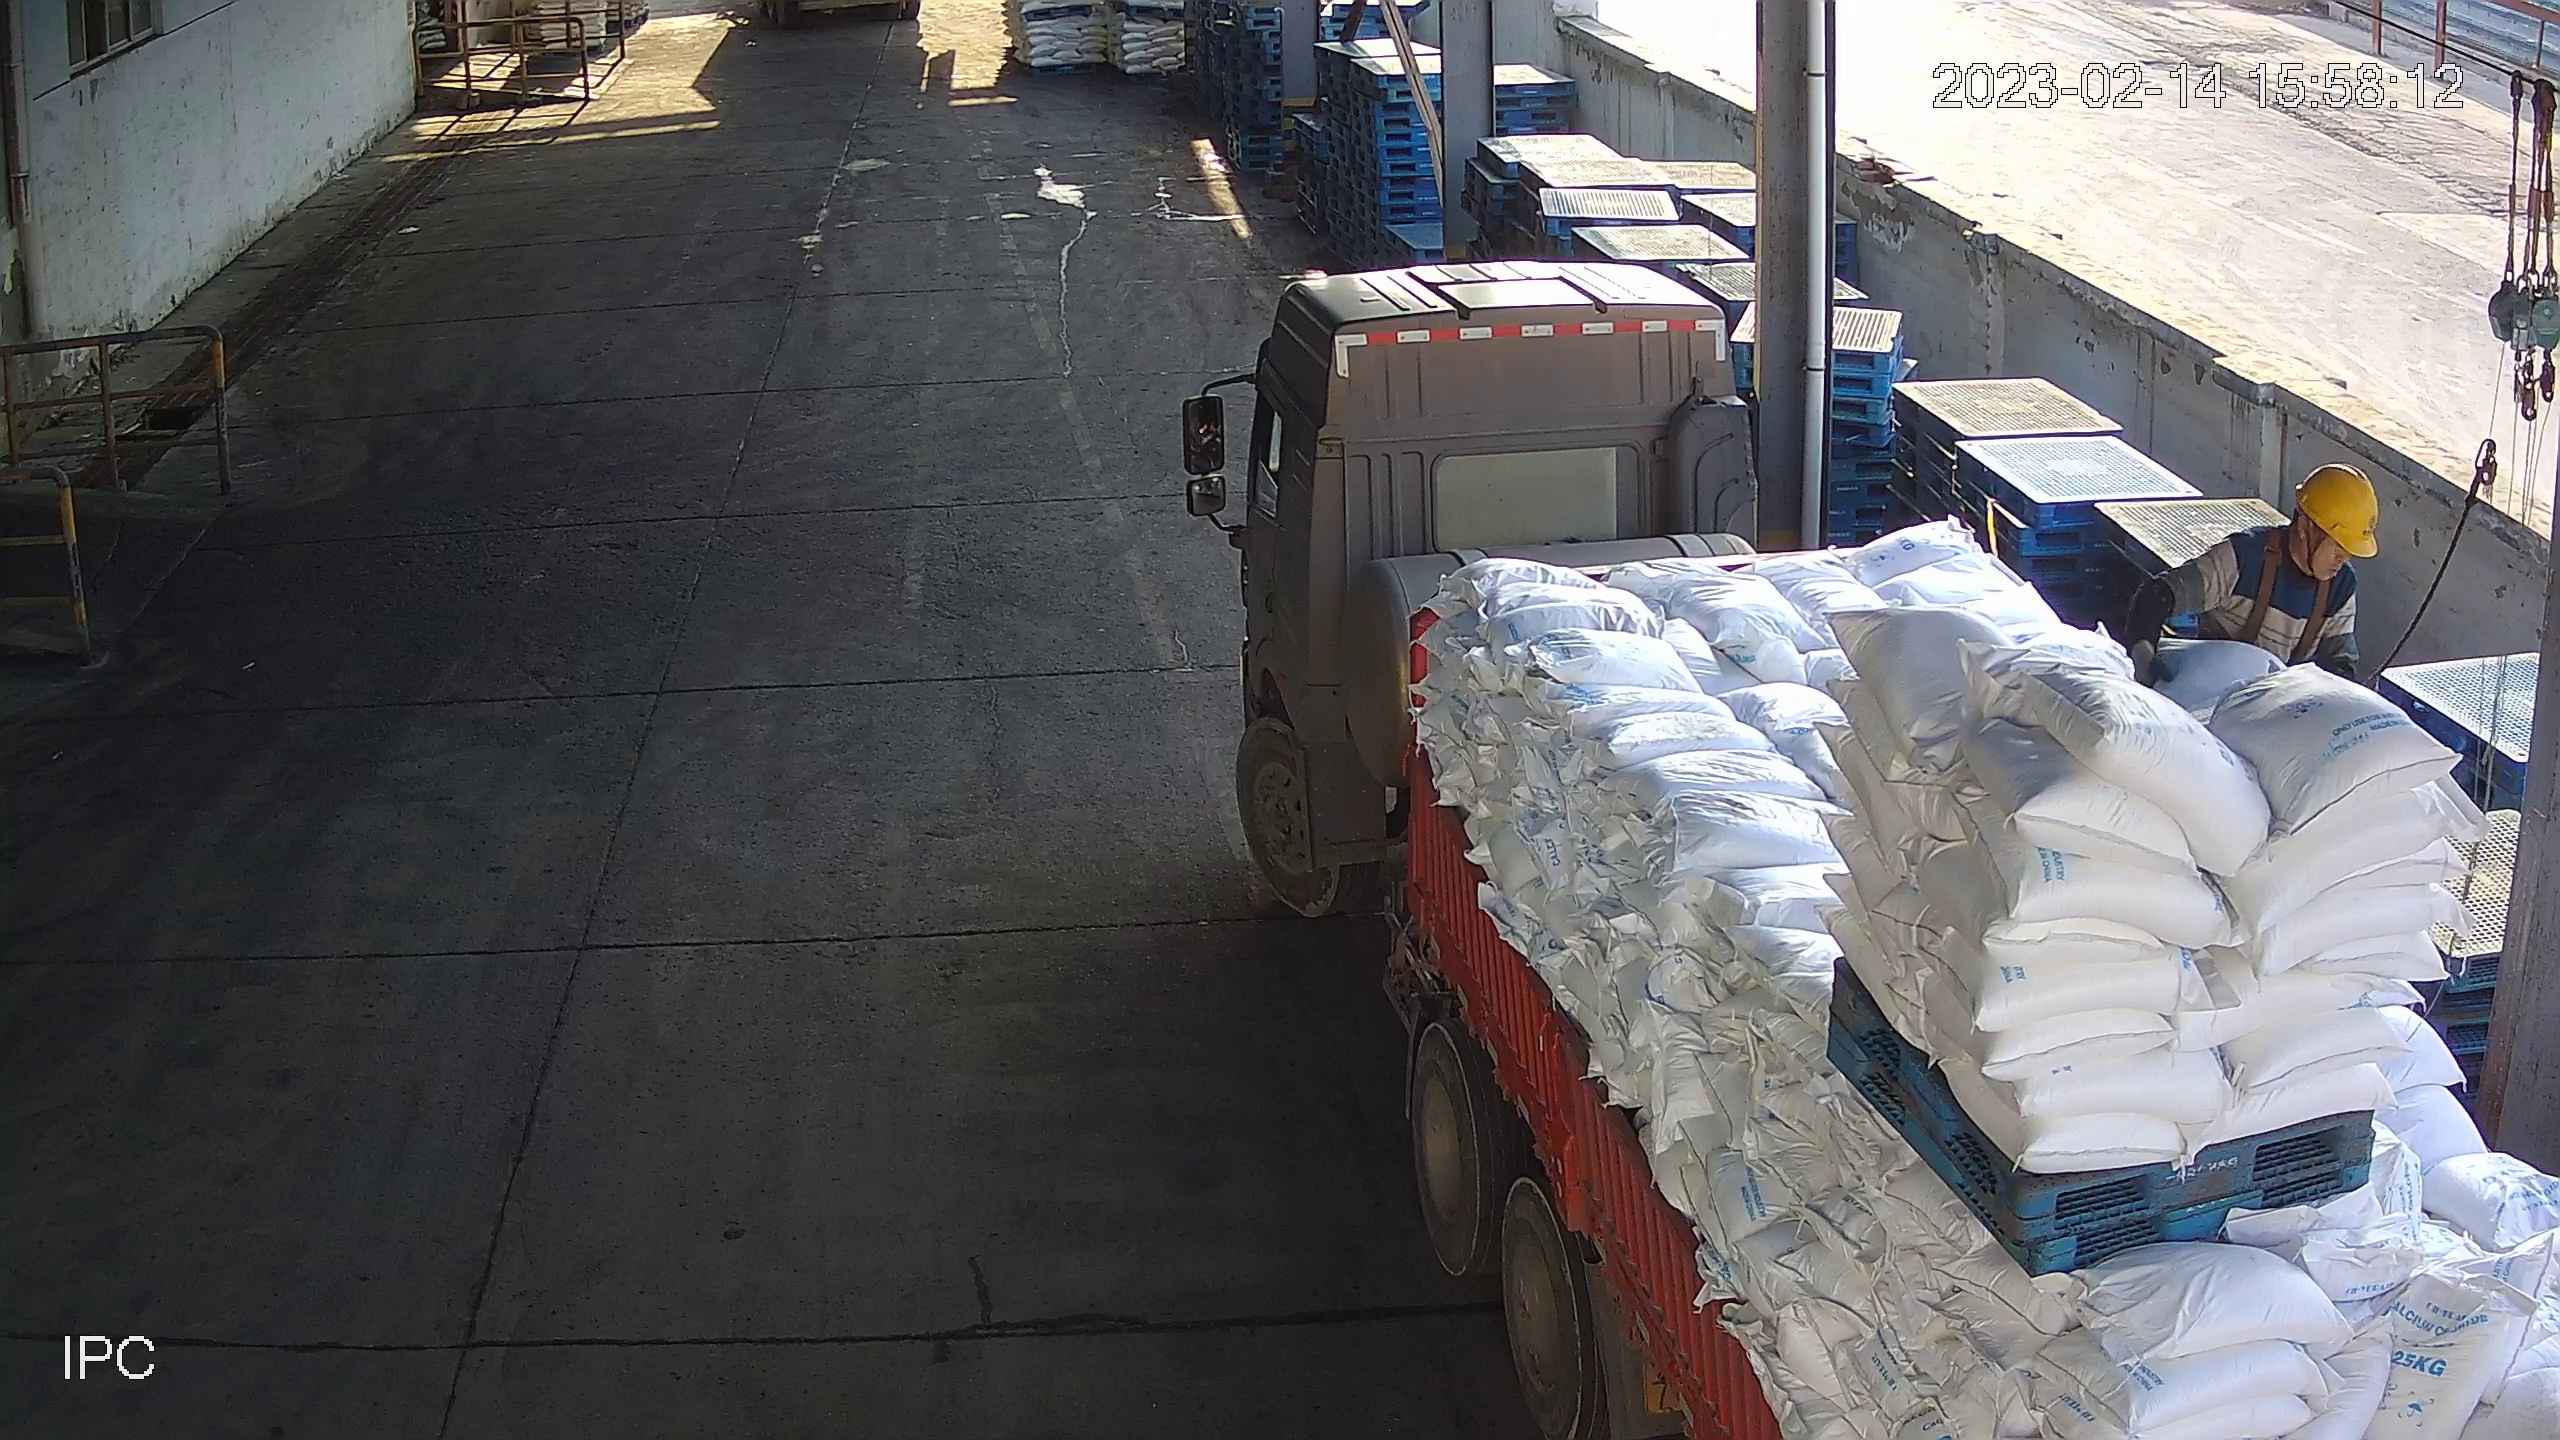belt: (2240, 523, 2328, 671)
head: (2215, 459, 2378, 600)
helmet: (2290, 460, 2380, 559)
truck: (1219, 255, 2560, 1440)
